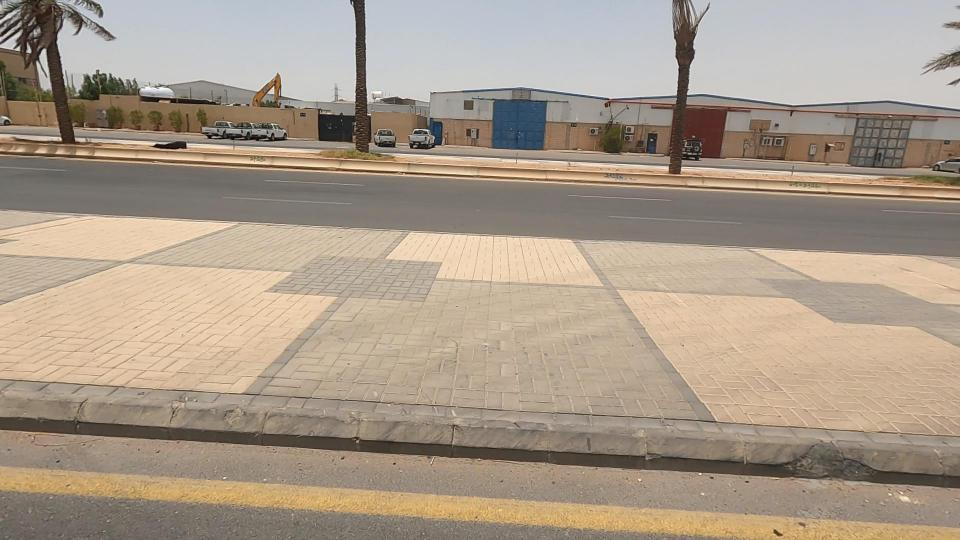GARBAGE: (148, 121, 207, 173)
